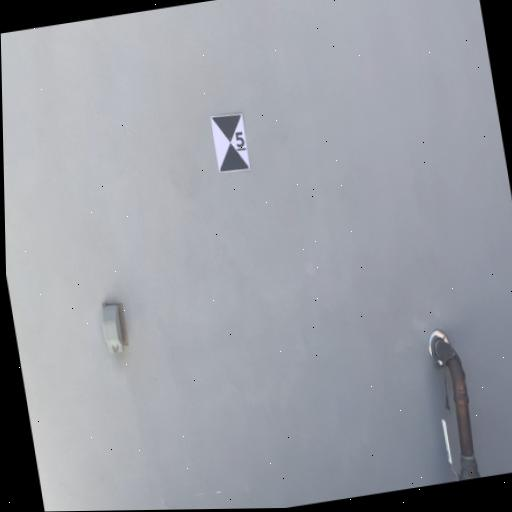target5: (211, 111, 252, 174)
